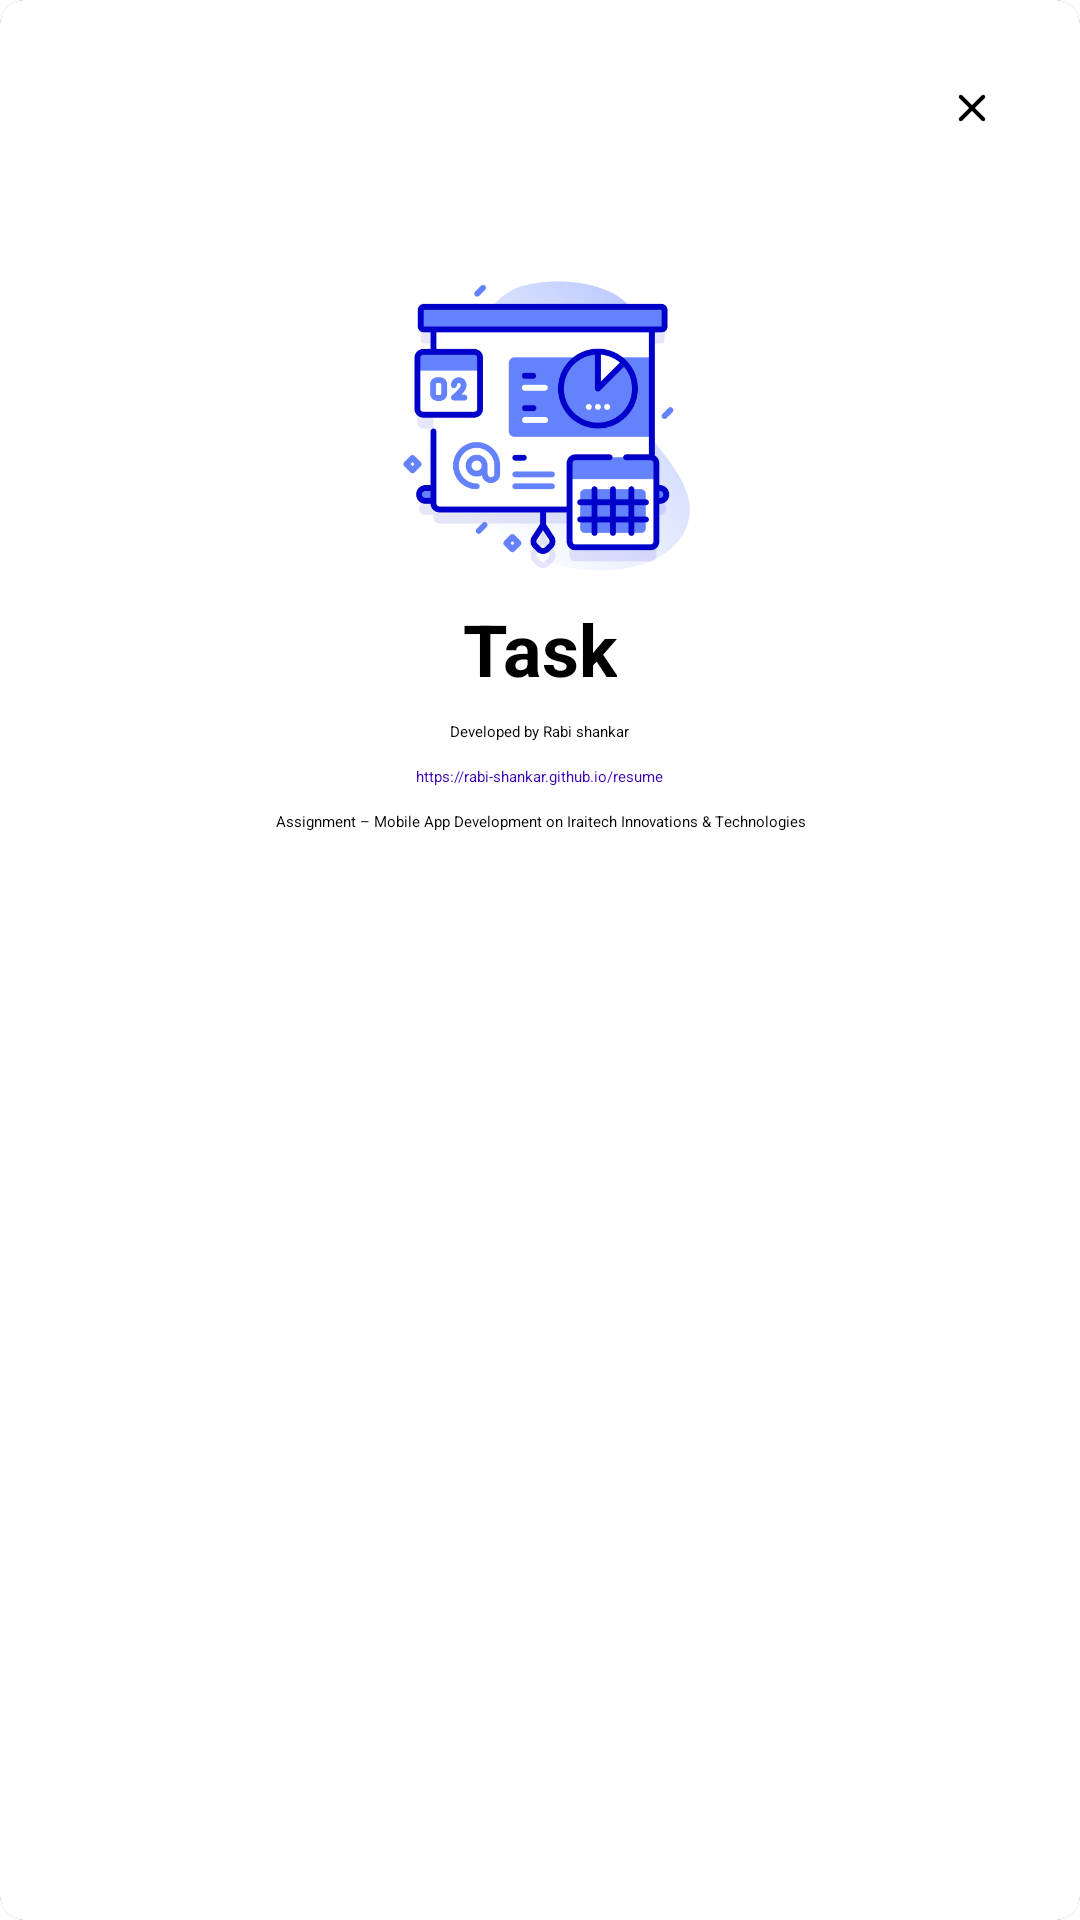

Screen size 1080×1920. Icon name, then its center in pixels as (x,y):
close: (972,108)
